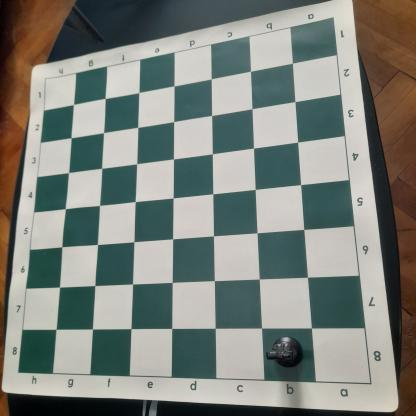black-knight: (266, 335, 305, 370)
